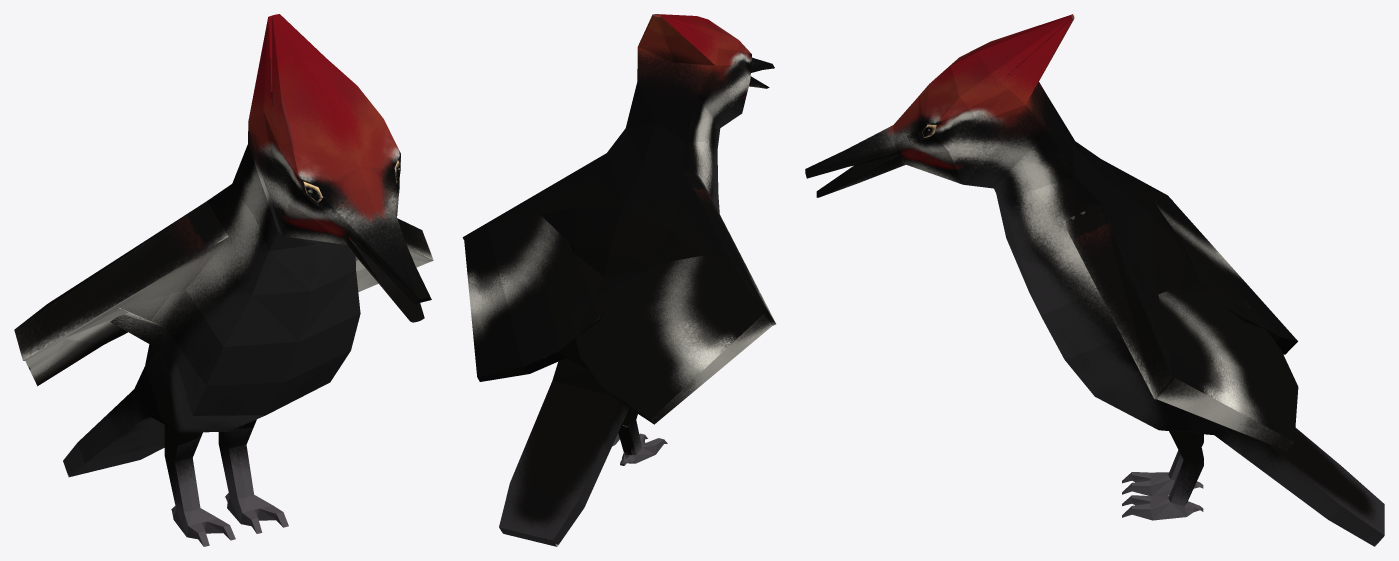
Rendered from woodpeckerFoldedWings.fbx.
3 views of the same model, side by side, from view 1: azimuth 30°, elevation 25°; view 2: azimuth 150°, elevation 25°; view 3: azimuth 270°, elevation 25° (orthographic). The views are drawn at different scales.
Visible parts, largest first — view 1: woodpecker; view 2: woodpecker; view 3: woodpecker.
Part boxes in pixels (<box>): woodpecker: <box>14,14,433,546</box>; woodpecker: <box>462,14,775,546</box>; woodpecker: <box>805,14,1384,546</box>.
Size of the model in its own units: 593 by 798 by 813.
1 material, 1 textured.
